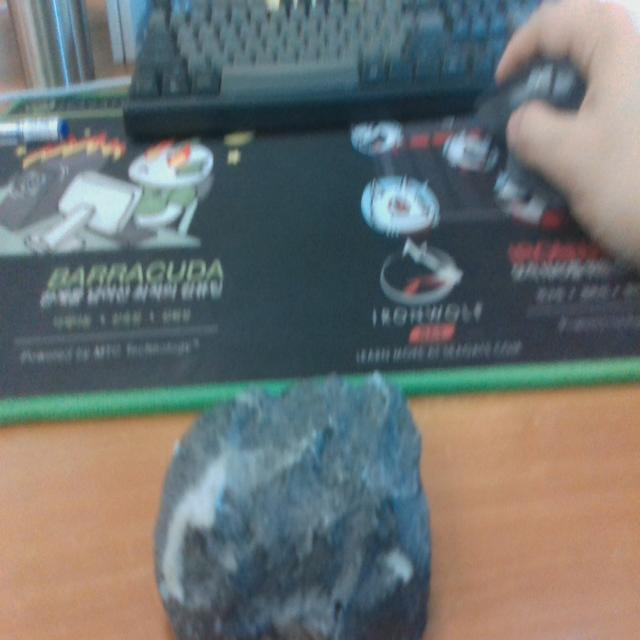stone: (151, 368, 437, 640)
